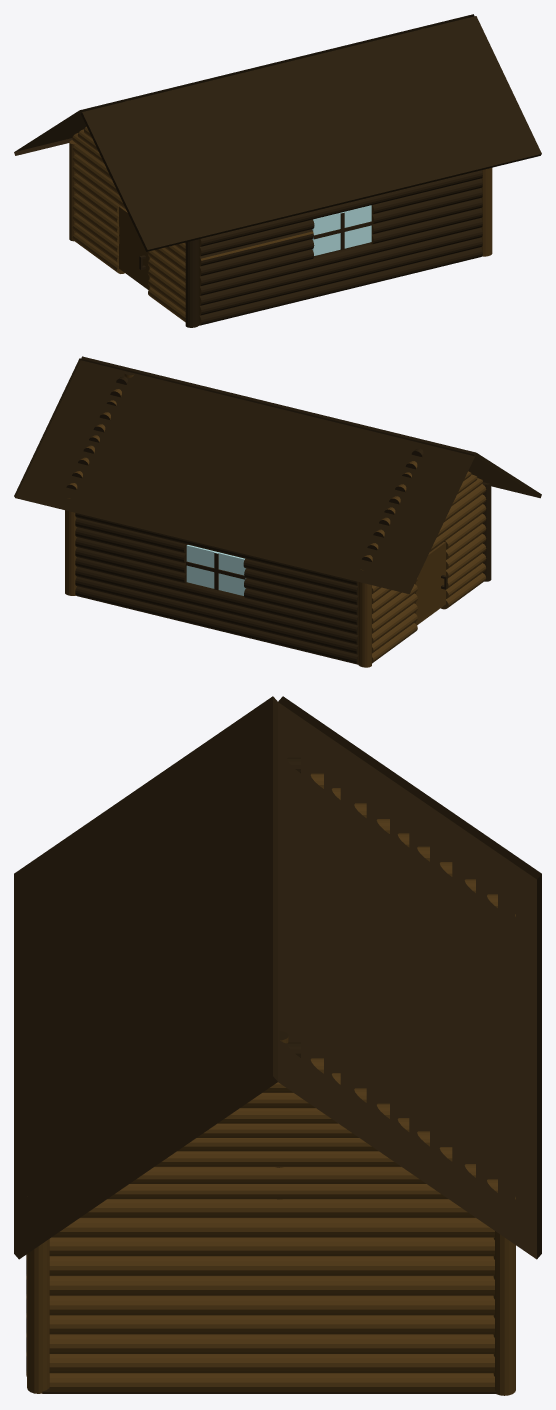
The model's file is MyCabin.fbx.
3 views of the same model, one above another, from view 1: azimuth 30°, elevation 25°; view 2: azimuth 150°, elevation 25°; view 3: azimuth 270°, elevation 25° (orthographic). The views are drawn at different scales.
Visible parts, largest first — view 1: Cube.005, Cube.004; view 2: Cube.005, Cube.006; view 3: Cube.005.
Part boxes in pixels (x1,y1,x2,y2): Cube.005: (14, 14, 541, 327); Cube.004: (312, 205, 372, 255); Cube.005: (14, 356, 541, 667); Cube.006: (186, 545, 245, 595); Cube.005: (14, 696, 541, 1395).
Size of the model in its own units: 9378 by 4169 by 5506.
